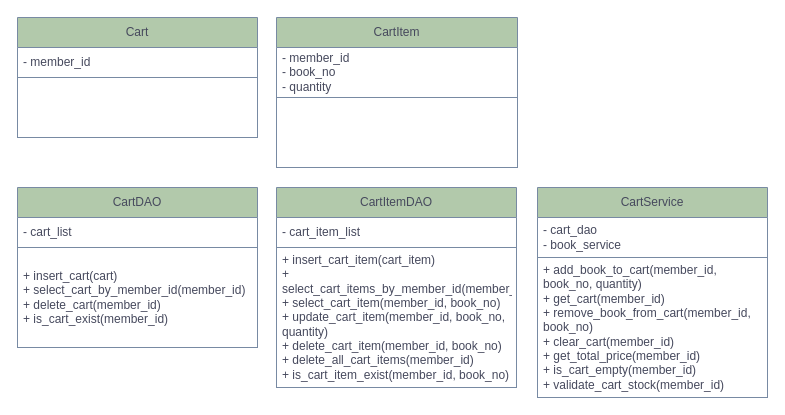
This 785x415 diagram has some shape labels left out. Here are the shapes that lost their labels. From the top down, the centre of each, then its label:
point (137, 107): + __init__(member_id) + getters, setters + __str__()
point (397, 132): + __init__(member_id, book_no, quantity) + getters, setters + __str__()
